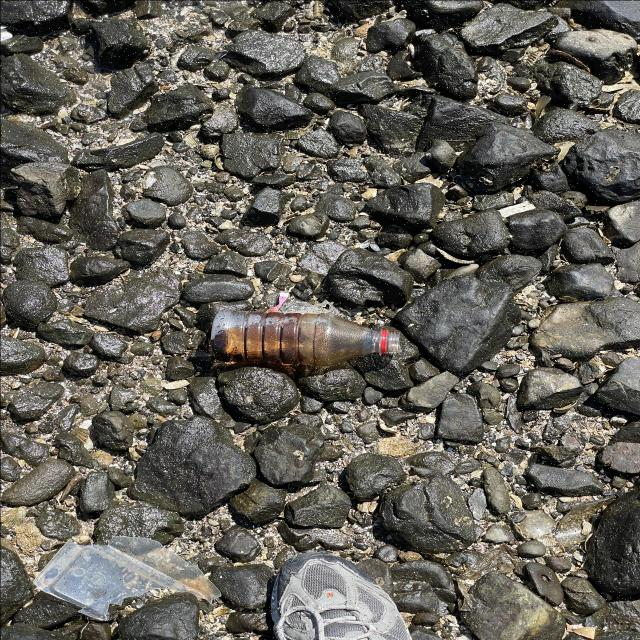glass_waste: (210, 309, 402, 368)
rubber_waste: (270, 553, 430, 640)
